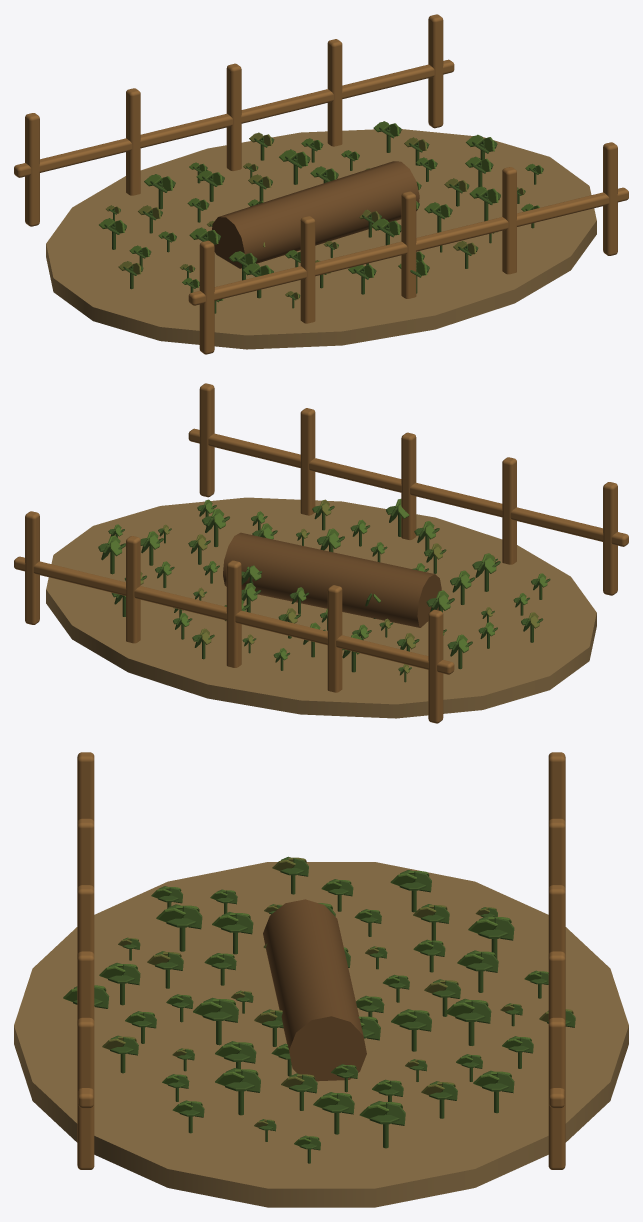
The model's file is wildlife-corridor.glb.
The picture shows the model from 3 angles, top to bottom: view 1: azimuth 30°, elevation 25°; view 2: azimuth 150°, elevation 25°; view 3: azimuth 270°, elevation 25°; orthographic projection. The views are drawn at different scales.
Visible parts, largest first — view 1: wildlife-corridor-farm-dirt, wildlife-corridor-farm-wood-dark, wildlife-corridor-farm-wood-shadow, wildlife-corridor-farm-leaf-dark, wildlife-corridor-farm-leaf, wildlife-corridor-farm-grass; view 2: wildlife-corridor-farm-dirt, wildlife-corridor-farm-wood-dark, wildlife-corridor-farm-wood-shadow, wildlife-corridor-farm-leaf-dark, wildlife-corridor-farm-leaf, wildlife-corridor-farm-grass; view 3: wildlife-corridor-farm-dirt, wildlife-corridor-farm-leaf-dark, wildlife-corridor-farm-wood-dark, wildlife-corridor-farm-wood-shadow, wildlife-corridor-farm-leaf, wildlife-corridor-farm-grass.
Boxes of the visible parts, left/top/right/bottom form: wildlife-corridor-farm-dirt: left=46, top=129, right=596, bottom=349; wildlife-corridor-farm-wood-dark: left=14, top=14, right=628, bottom=354; wildlife-corridor-farm-wood-shadow: left=212, top=161, right=419, bottom=268; wildlife-corridor-farm-leaf-dark: left=104, top=121, right=543, bottom=313; wildlife-corridor-farm-leaf: left=99, top=121, right=542, bottom=300; wildlife-corridor-farm-grass: left=106, top=133, right=524, bottom=299; wildlife-corridor-farm-dirt: left=46, top=497, right=596, bottom=718; wildlife-corridor-farm-wood-dark: left=14, top=383, right=628, bottom=723; wildlife-corridor-farm-wood-shadow: left=223, top=532, right=441, bottom=627; wildlife-corridor-farm-leaf-dark: left=98, top=503, right=550, bottom=682; wildlife-corridor-farm-leaf: left=107, top=499, right=547, bottom=660; wildlife-corridor-farm-grass: left=140, top=499, right=539, bottom=673; wildlife-corridor-farm-dirt: left=14, top=862, right=628, bottom=1207; wildlife-corridor-farm-leaf-dark: left=73, top=856, right=575, bottom=1163; wildlife-corridor-farm-wood-dark: left=77, top=752, right=565, bottom=1169; wildlife-corridor-farm-wood-shadow: left=263, top=899, right=366, bottom=1081; wildlife-corridor-farm-leaf: left=63, top=871, right=548, bottom=1146; wildlife-corridor-farm-grass: left=102, top=857, right=573, bottom=1127.
Size of the model in its own units: 5.91 by 1.33 by 4.7.
